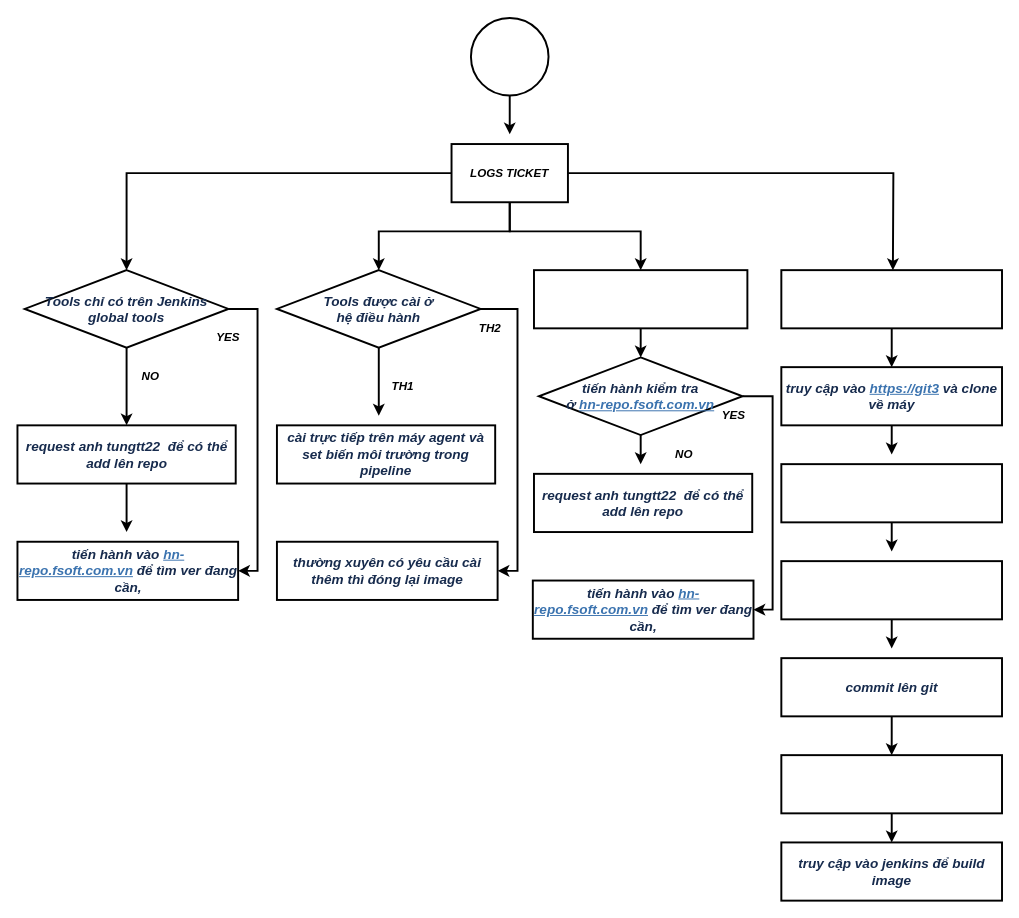
Image size: 1019x918. Some labels were removed from this diagram. The shapes that lost their labels are listed below. From the top down, each one's centre as x and y in pixels, then its label:
the point at 509,56: START
the point at 640,299: Thư viện sử dụng trong quá trình build app
the point at 891,299: Tools được cài ở hệ điều hành( đóng lại image)
the point at 891,493: tạo nhánh mới từ nhánh được tạo mới gần nhất.
the point at 891,590: tiến hành chỉnh sửa Dockerfile
the point at 891,784: đánh tag cho image mới phù hợp
